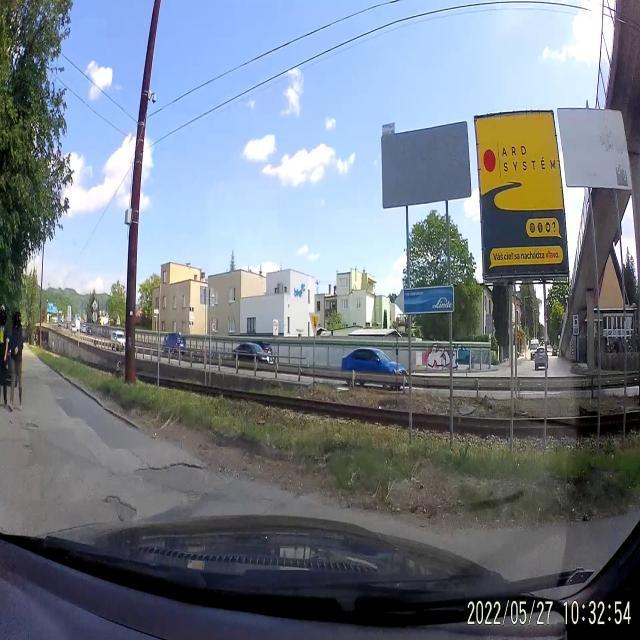Pothole: (130, 444, 216, 496), (100, 492, 138, 521), (21, 417, 38, 433)
